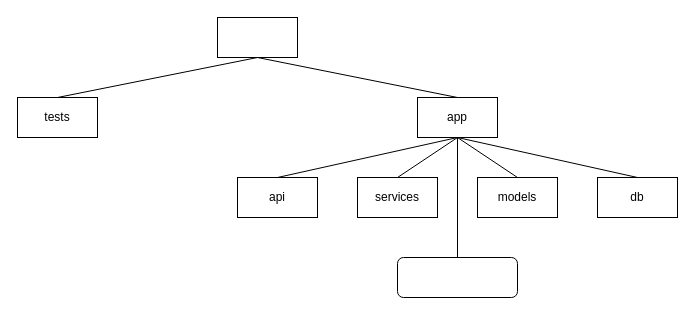
This 695x315 diagram has some shape labels left out. Here are the shapes that lost their labels. From the top down, the centre of each, then its label:
point 257,37: src
point 457,277: main
